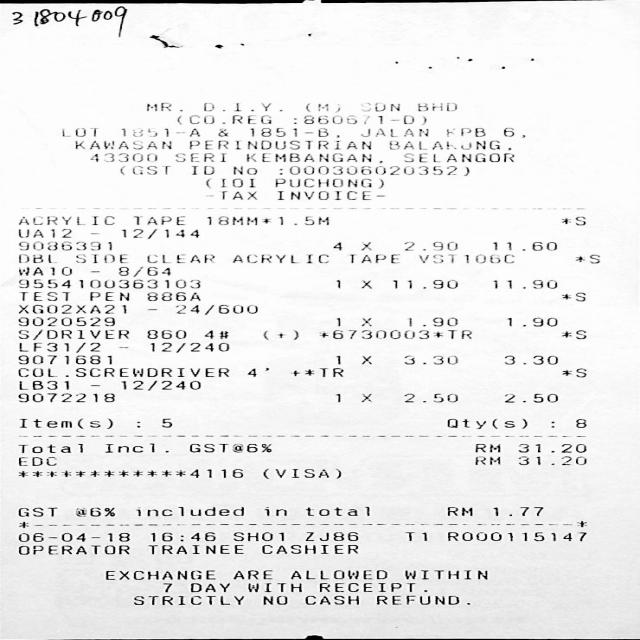text: (16, 468, 242, 477), (18, 368, 228, 376), (188, 139, 368, 148), (277, 166, 466, 174), (17, 279, 198, 287), (246, 152, 380, 162), (319, 330, 469, 338), (291, 115, 423, 124), (445, 532, 583, 540), (17, 329, 127, 339), (18, 532, 128, 541), (18, 545, 128, 554), (206, 216, 329, 224), (276, 190, 385, 199), (15, 304, 124, 313), (133, 595, 242, 604), (274, 178, 382, 187), (133, 506, 241, 515), (316, 582, 424, 591), (388, 140, 508, 148), (146, 544, 242, 554), (16, 418, 110, 428), (17, 354, 108, 364), (176, 115, 272, 124), (418, 254, 514, 263), (104, 570, 212, 578), (405, 153, 512, 161), (75, 139, 170, 148), (175, 304, 256, 314), (18, 341, 99, 351), (232, 254, 330, 262), (148, 341, 226, 351), (119, 380, 197, 390), (446, 418, 524, 428), (18, 317, 114, 325), (15, 393, 111, 401), (260, 544, 356, 552), (289, 570, 385, 578), (120, 228, 196, 238), (261, 468, 337, 478), (374, 595, 458, 604), (17, 216, 111, 224), (187, 443, 268, 452), (17, 241, 108, 249), (248, 128, 336, 136), (404, 570, 486, 578), (119, 128, 197, 136), (361, 128, 427, 137), (15, 443, 80, 452), (303, 506, 367, 515), (149, 531, 213, 540), (105, 443, 167, 452), (502, 354, 557, 364), (201, 103, 279, 110), (146, 254, 213, 262), (516, 444, 583, 452), (516, 456, 583, 464), (90, 153, 155, 161), (347, 253, 399, 263), (491, 242, 555, 250), (392, 279, 456, 287), (492, 279, 555, 287), (118, 266, 168, 276), (16, 228, 70, 237), (245, 582, 299, 591), (203, 190, 256, 199), (304, 595, 357, 604), (402, 241, 454, 250), (402, 393, 454, 402), (502, 393, 554, 402), (17, 380, 67, 389), (492, 506, 542, 515), (118, 165, 167, 174), (505, 317, 554, 326), (231, 532, 280, 541), (17, 266, 70, 274), (404, 355, 457, 363), (407, 317, 454, 326), (72, 253, 124, 261), (145, 292, 197, 300), (302, 532, 354, 540), (133, 216, 184, 224), (203, 178, 253, 186), (290, 368, 340, 376), (175, 153, 224, 161), (15, 506, 54, 516), (20, 292, 67, 300), (360, 102, 400, 111), (88, 291, 127, 300), (304, 102, 340, 111), (60, 127, 96, 136), (144, 102, 179, 111), (262, 330, 297, 339), (75, 507, 114, 515), (444, 127, 482, 135), (16, 457, 54, 465), (232, 570, 270, 578), (190, 583, 227, 591), (146, 330, 182, 338), (416, 103, 453, 110), (16, 254, 48, 262), (446, 506, 471, 515), (574, 254, 598, 263), (189, 165, 212, 174), (261, 595, 284, 604), (474, 443, 496, 452), (263, 506, 285, 515), (561, 330, 585, 338), (561, 368, 585, 376), (202, 330, 225, 338), (402, 531, 425, 539), (502, 127, 522, 136), (560, 216, 582, 224), (560, 292, 582, 300), (474, 456, 496, 464), (231, 166, 253, 173), (358, 393, 371, 402), (361, 241, 372, 251), (215, 128, 228, 136), (358, 279, 370, 287), (361, 355, 372, 363), (331, 242, 341, 250), (334, 355, 342, 365), (246, 368, 256, 376), (159, 418, 169, 426), (573, 418, 583, 426), (359, 318, 369, 325), (334, 279, 342, 287), (334, 394, 342, 402), (161, 583, 169, 591), (335, 318, 340, 326)
